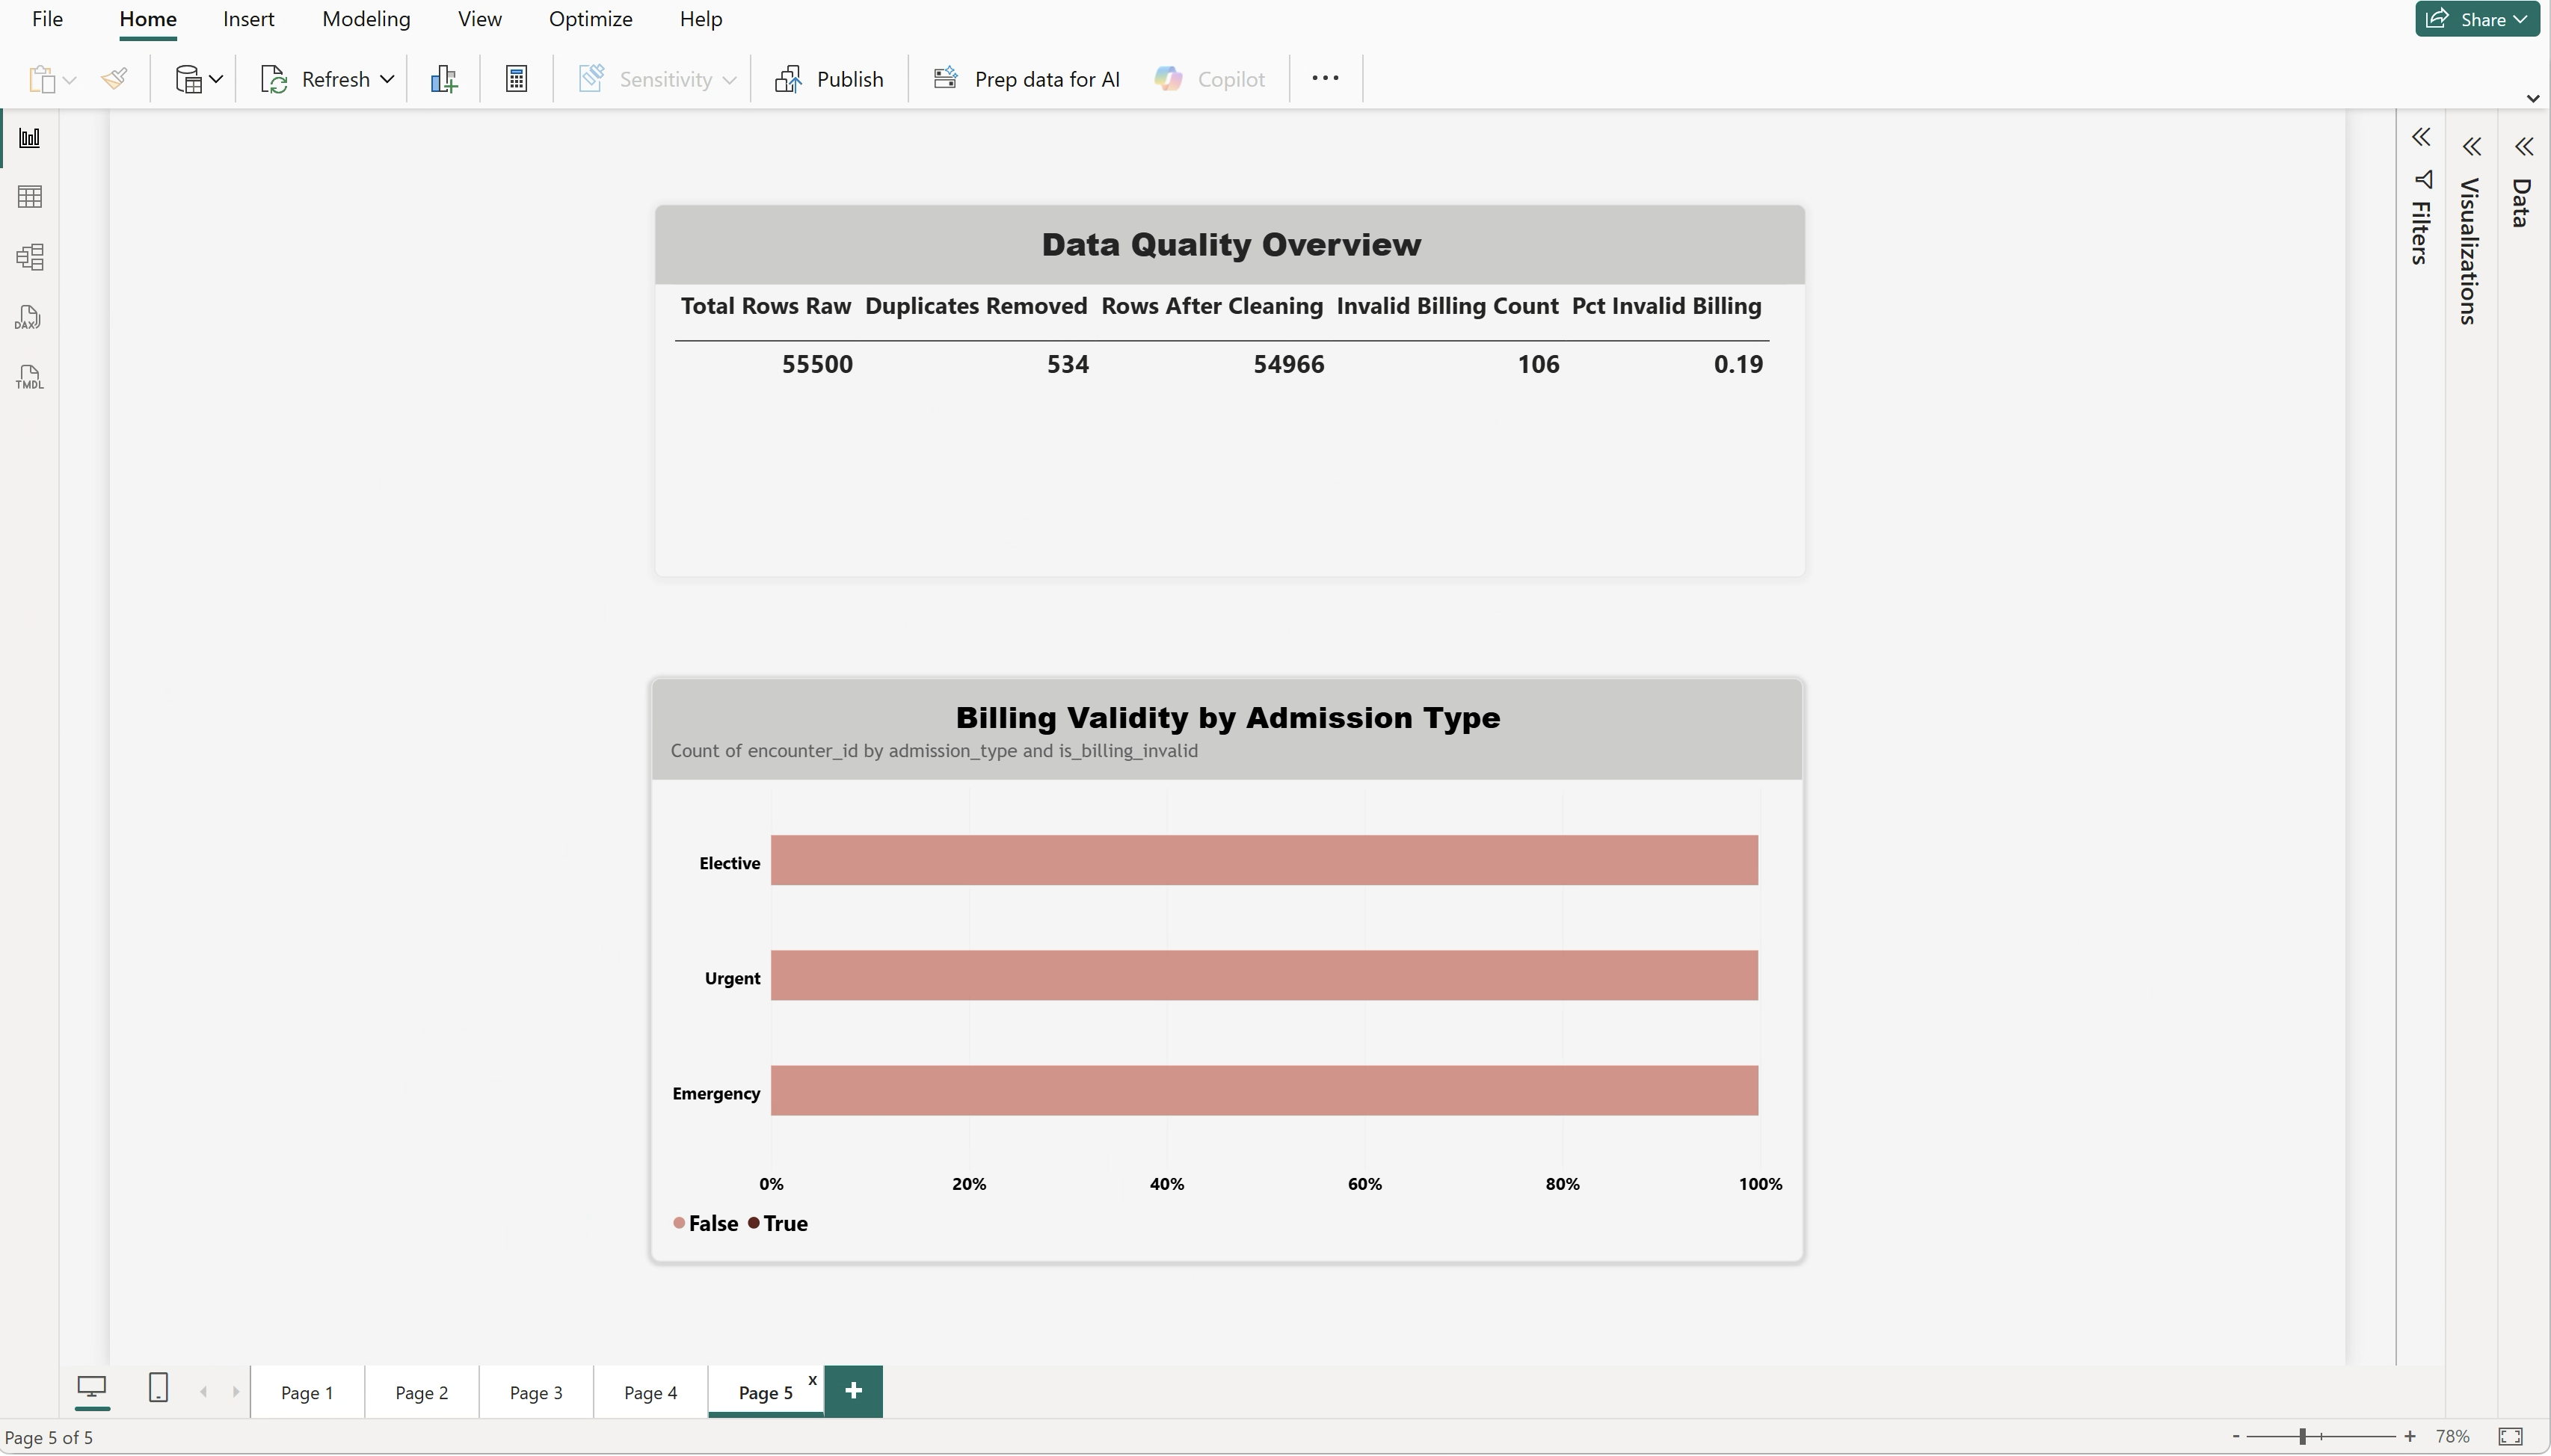

What the dashboard file says about the page in this screenshot:
{"tool":"powerbi","page":{"name":"Page 5","canvas":[1920,1080],"ordinal":4},"visuals":[{"type":"tableEx","title":"Data Quality Overview","fields":{"Values":["encounters_rows.Total Rows Raw","encounters_rows.Duplicates Removed","encounters_rows.Rows After Cleaning","encounters_rows.Invalid Billing Count","encounters_rows.Pct Invalid Billing"]},"box":[467,81.6,989.5,321.2],"z":0},{"type":"hundredPercentStackedBarChart","title":"Billing Validity by Admission Type","fields":{"Category":["encounters_rows.admission_type"],"Series":["encounters_rows.is_billing_invalid"],"Y":["CountNonNull(encounters_rows.encounter_id)"]},"box":[465.2,489.5,989.5,501.7],"z":1}]}

Visuals, with their boxes on the page's 1920x1080 design canvas (x1, y1, x2, y2). These are canvas units, not pixel positions in the 2551x1456 screenshot, which may show the page scaled, cropped or inside an application window:
"Data Quality Overview" tableEx: l=467, t=82, r=1456, b=403
"Billing Validity by Admission Type" hundredPercentStackedBarChart: l=465, t=490, r=1455, b=991
